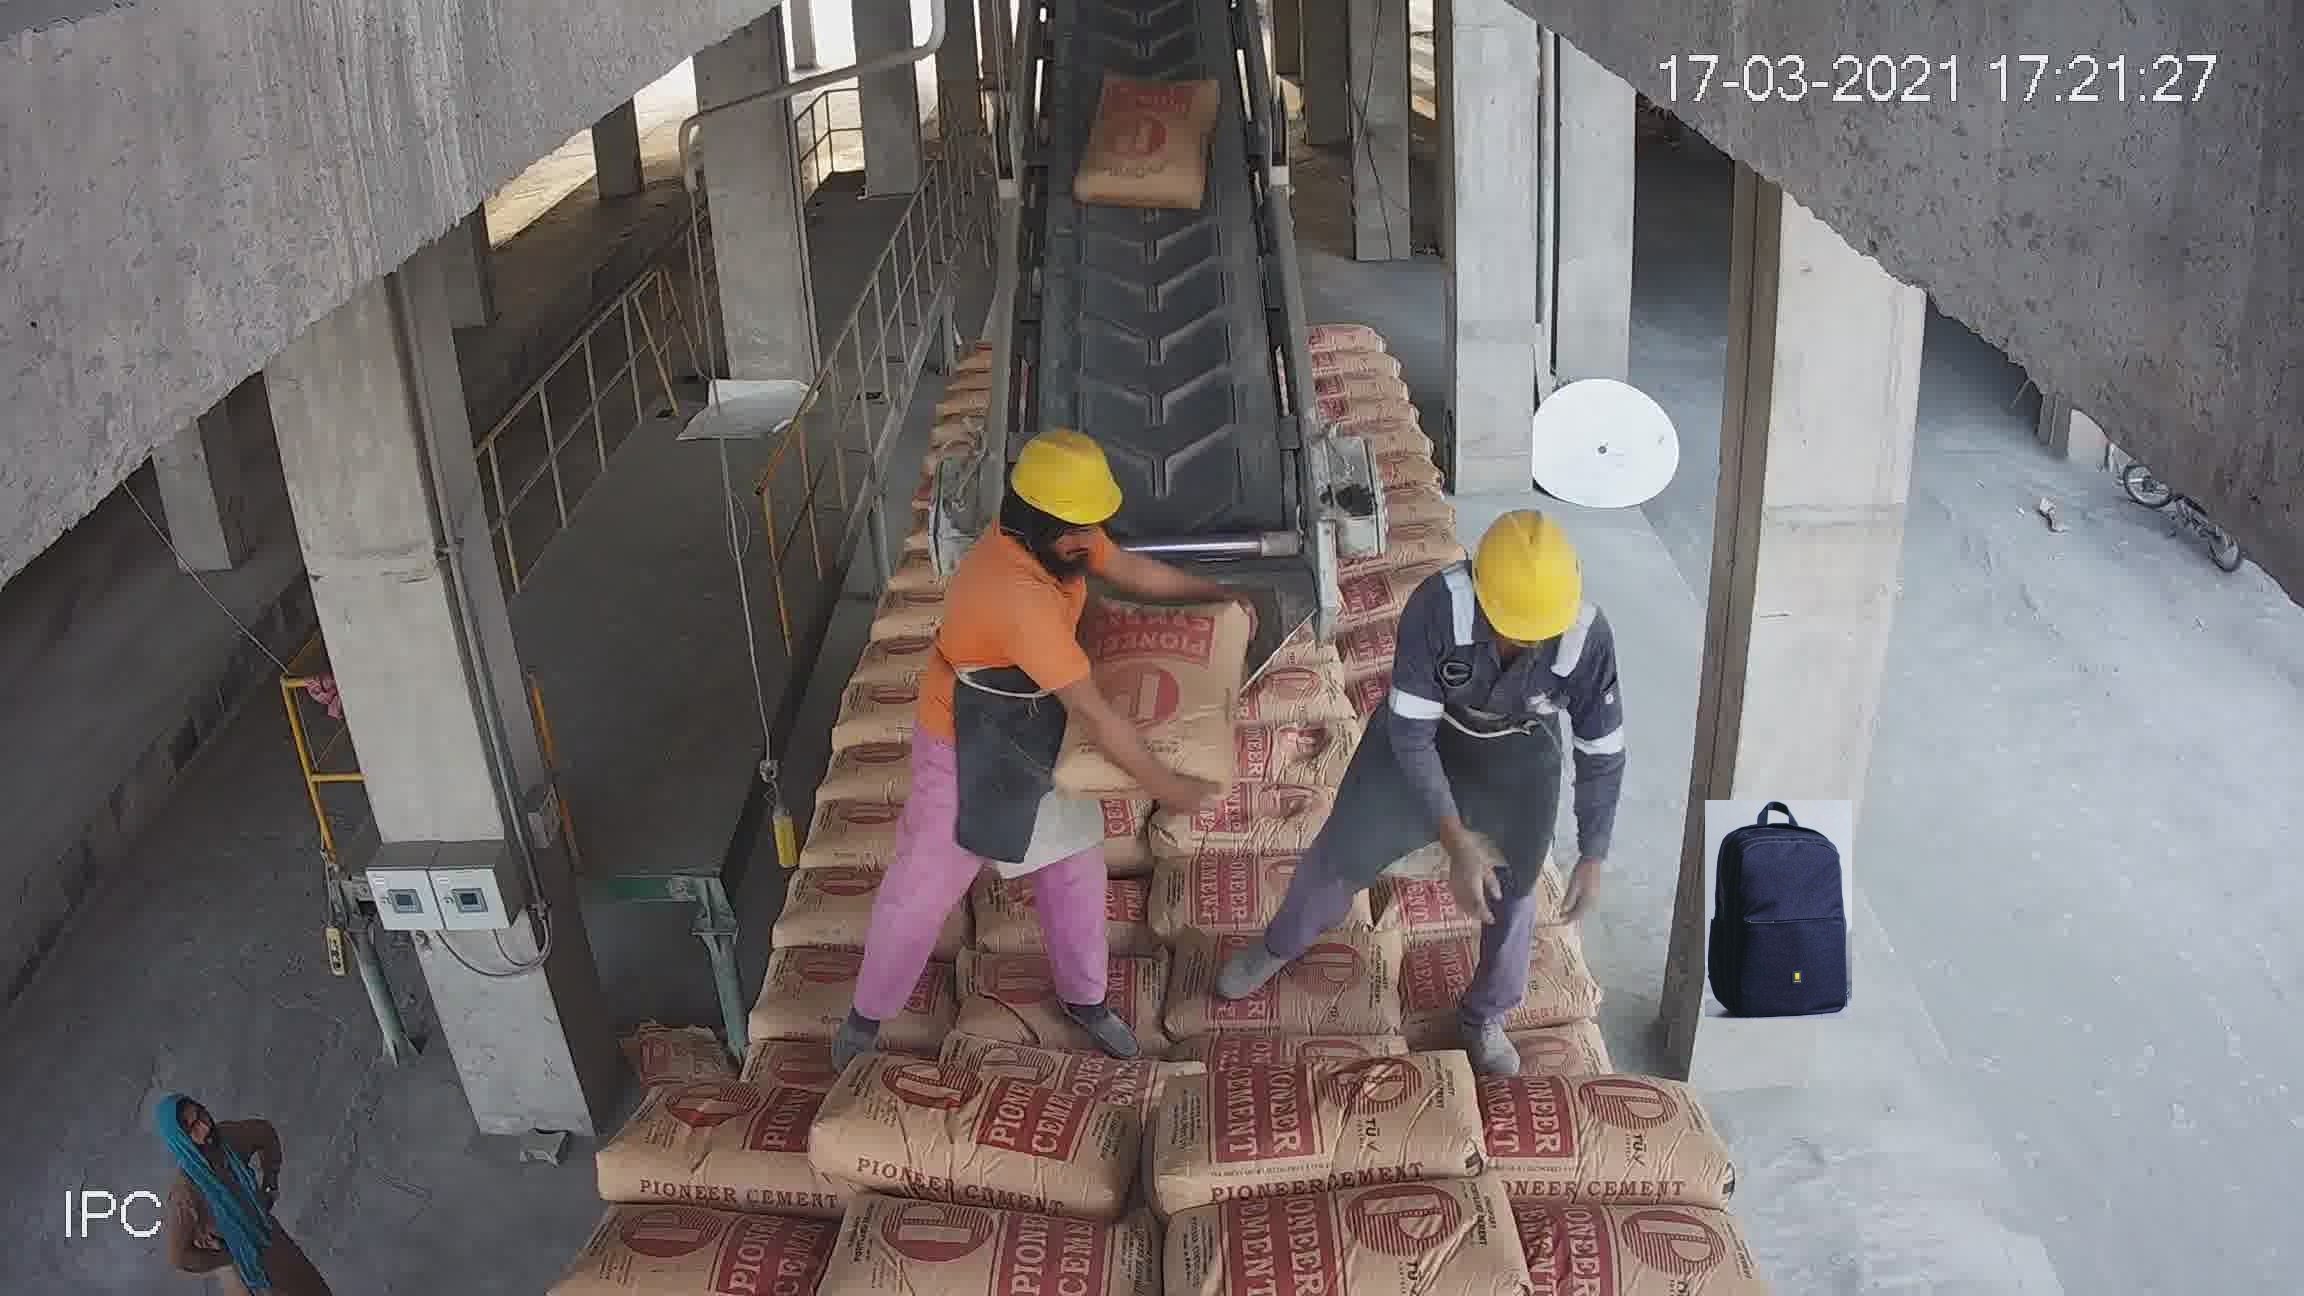bag_h: (1124, 1043, 1503, 1217), (1150, 923, 1451, 1081), (794, 1055, 1144, 1188), (1154, 1188, 1541, 1296), (1467, 1070, 1742, 1207), (636, 940, 894, 1086), (1141, 709, 1399, 855), (1146, 821, 1421, 953), (883, 832, 1166, 956), (881, 953, 1139, 1079), (1434, 937, 1693, 1052), (810, 1199, 1131, 1290), (663, 851, 902, 967), (584, 1076, 798, 1201), (885, 753, 1146, 855), (1400, 850, 1647, 948), (1522, 1201, 1772, 1296), (552, 1215, 820, 1296), (1362, 779, 1597, 862), (717, 764, 880, 877), (1017, 663, 1180, 729), (1154, 554, 1309, 622), (1022, 567, 1180, 631), (1415, 657, 1514, 736), (902, 502, 1044, 555), (1160, 608, 1272, 668), (1021, 536, 1184, 578), (883, 464, 1017, 513), (1022, 627, 1174, 666), (1400, 726, 1540, 769), (929, 552, 1032, 597), (1032, 733, 1157, 760)
belt: (1017, 0, 1291, 492)
